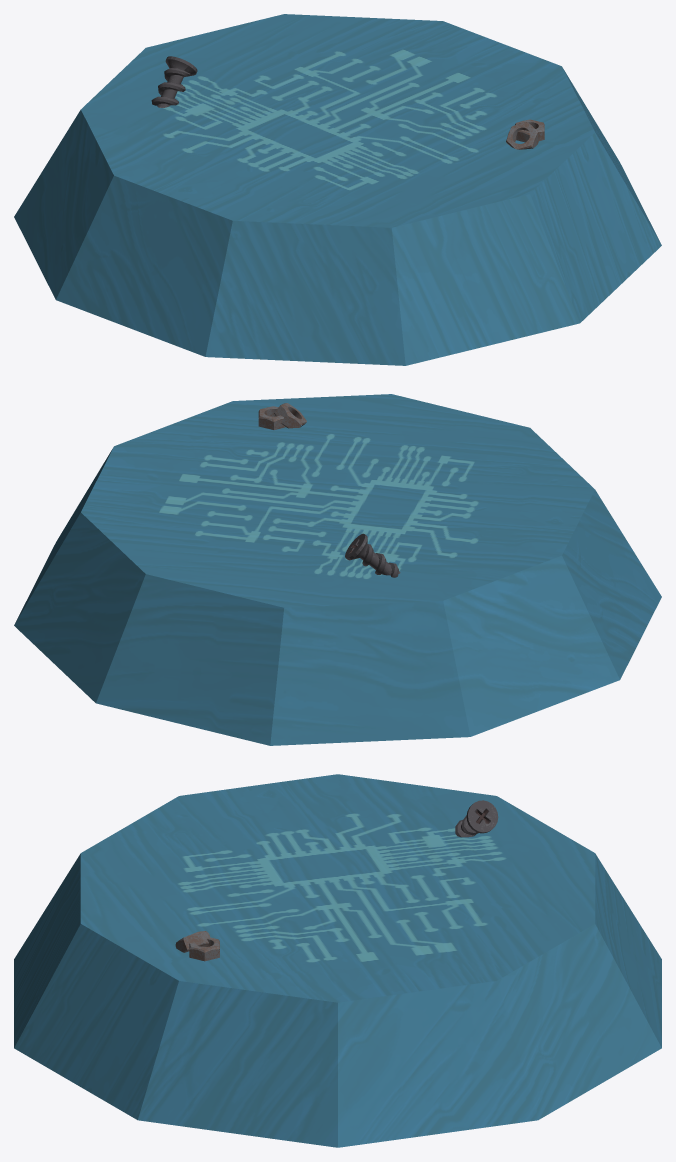
Rendered from BaseRobot.fbx.
The picture shows the model from 3 angles, top to bottom: view 1: azimuth 30°, elevation 25°; view 2: azimuth 150°, elevation 25°; view 3: azimuth 270°, elevation 25°; orthographic projection. The views are drawn at different scales.
Visible parts, largest first — view 1: polySurface11; view 2: polySurface11; view 3: polySurface11.
Boxes of the visible parts, box(x1,y1,x2,y2) form: polySurface11: box(14, 14, 661, 365); polySurface11: box(14, 394, 661, 745); polySurface11: box(14, 774, 661, 1147).
Size of the model in its own units: 2 by 0.5013 by 1.9.
